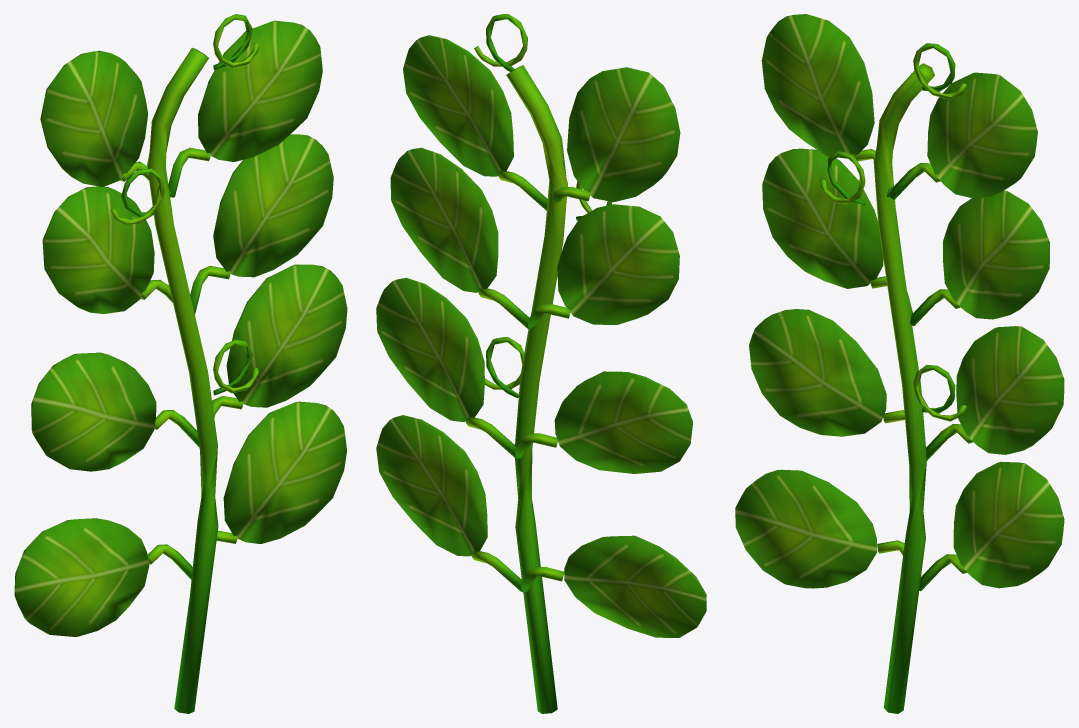
Rendered from NP_Pea_Young_LOD1.fbx.
The picture shows the model from 3 angles, left to right: view 1: azimuth 30°, elevation 25°; view 2: azimuth 150°, elevation 25°; view 3: azimuth 330°, elevation 25°; orthographic projection.
Parts seen in each view (by area): view 1: NP_Pea_Young; view 2: NP_Pea_Young; view 3: NP_Pea_Young.
Boxes of the visible parts, x1=… form: NP_Pea_Young: x1=14, y1=14, x2=347, y2=713; NP_Pea_Young: x1=376, y1=14, x2=706, y2=713; NP_Pea_Young: x1=735, y1=14, x2=1064, y2=713.
Size of the model in its own units: 34 by 67.18 by 4.13.
